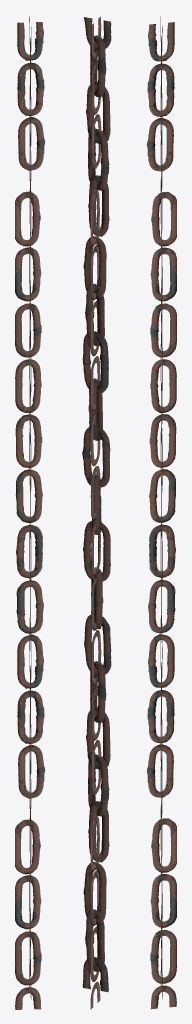
Rendered from SM_Chateaux_03_Chain_00.fbx.
The picture shows the model from 3 angles, left to right: view 1: azimuth 90°, elevation 25°; view 2: azimuth 150°, elevation 25°; view 3: azimuth 270°, elevation 25°; orthographic projection.
Parts seen in each view (by area): view 1: SM_Chateaux_03_Chain_00; view 2: SM_Chateaux_03_Chain_00; view 3: SM_Chateaux_03_Chain_00.
Boxes of the visible parts, bbox=[...] form: SM_Chateaux_03_Chain_00: bbox=[15, 16, 45, 1009]; SM_Chateaux_03_Chain_00: bbox=[82, 16, 111, 1009]; SM_Chateaux_03_Chain_00: bbox=[146, 16, 176, 1009].
Bounding box in the file's own units: 42.19 × 1345 × 41.84.
